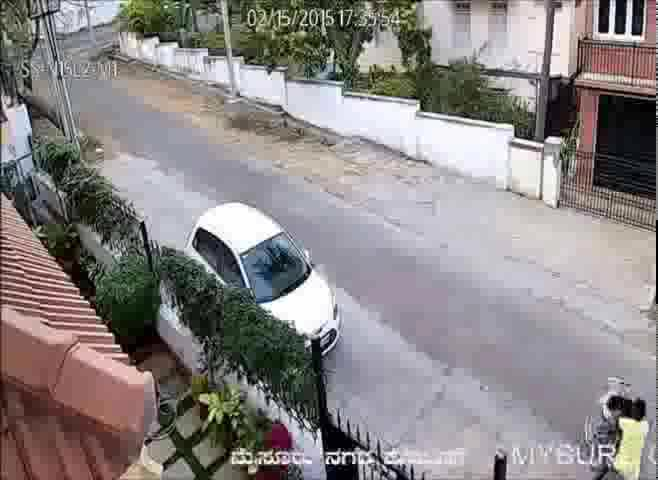snatching objects: (569, 339, 658, 473)
